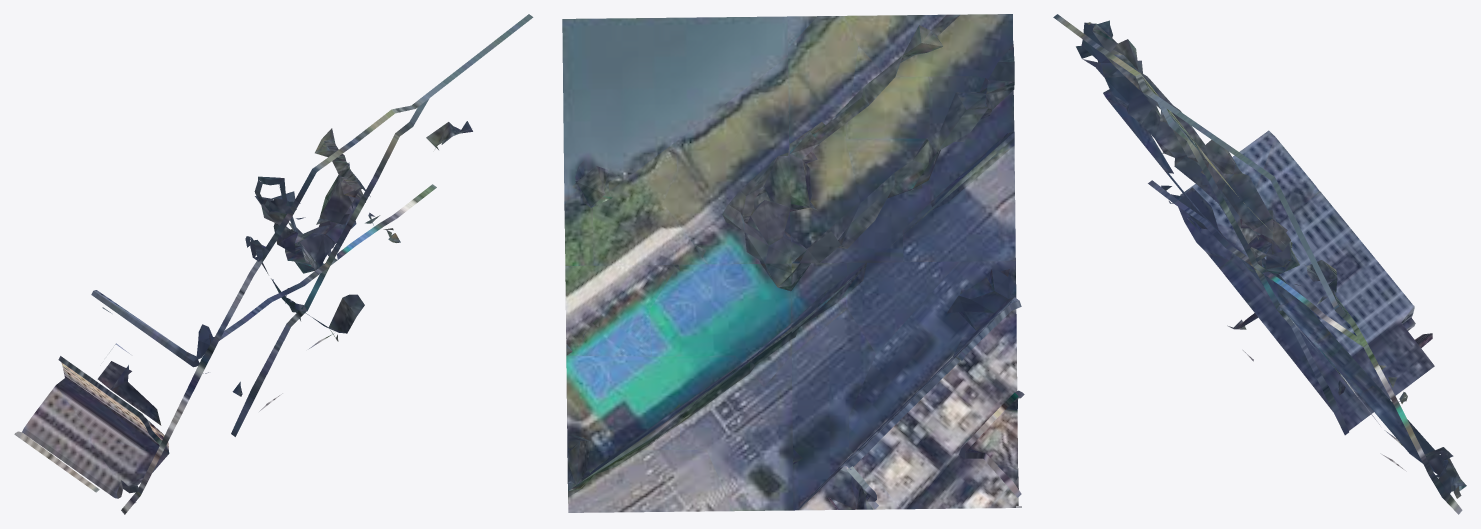
The picture shows the model from 3 angles, left to right: view 1: azimuth 30°, elevation 25°; view 2: azimuth 150°, elevation 25°; view 3: azimuth 270°, elevation 25°; orthographic projection. The views are drawn at different scales.
Size of the model in its own units: 177 by 140 by 133.
2 materials, 2 textured.
